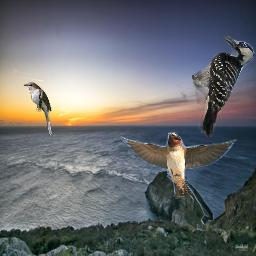Cuckoo: (23, 82, 52, 135)
Swallow: (118, 132, 237, 199)
Woodpecker: (192, 36, 255, 138)
